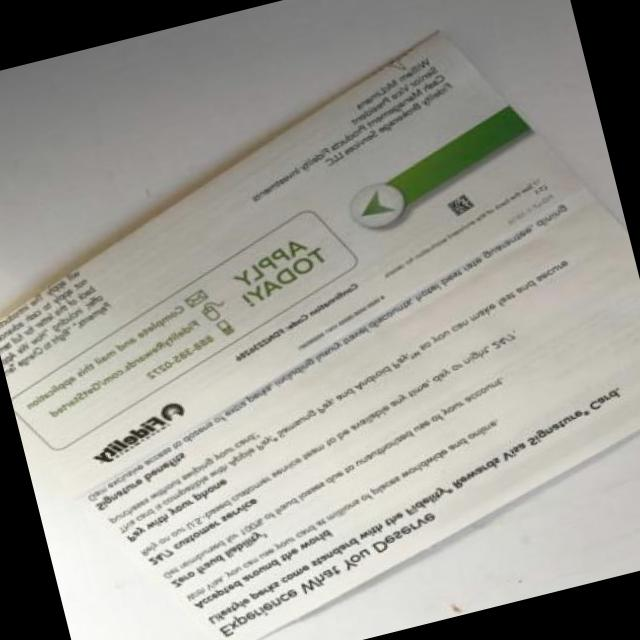cardboard paper: (0, 36, 640, 640)
